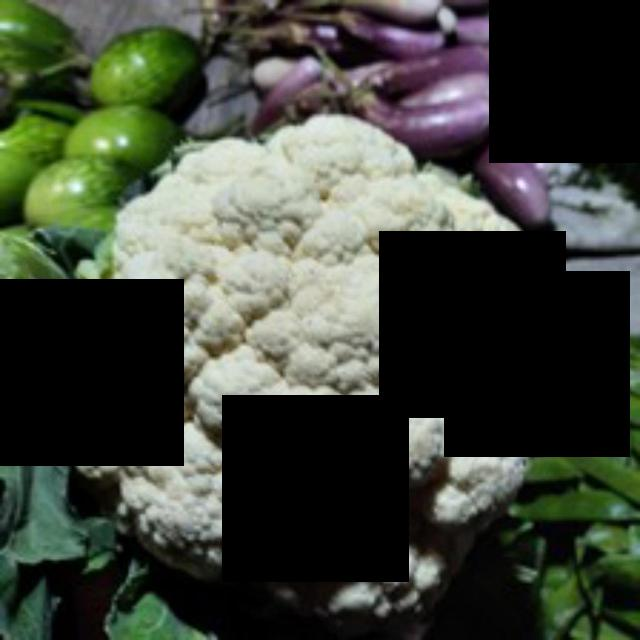cauliflower: (60, 118, 572, 618)
